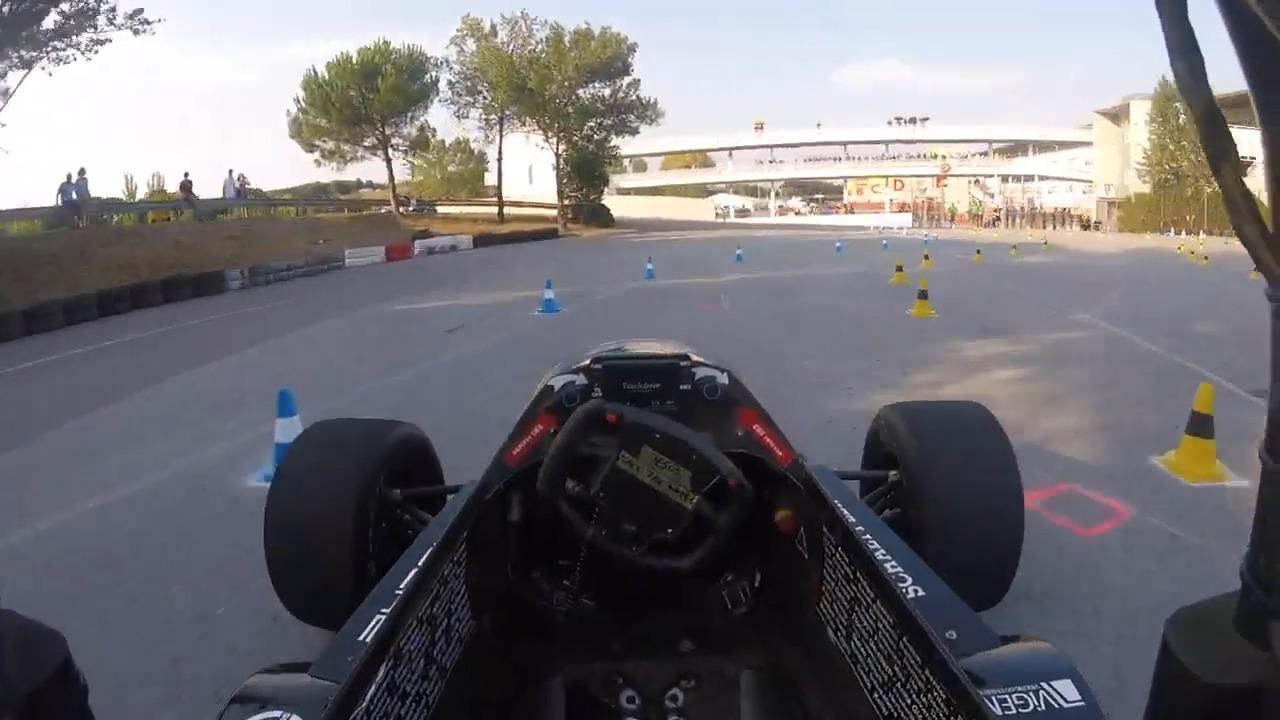blue_cone: (251, 386, 318, 494), (536, 275, 562, 316), (640, 255, 658, 280), (734, 244, 746, 264), (832, 240, 843, 256), (881, 237, 890, 252)
yellow_cone: (1164, 379, 1230, 486), (911, 280, 935, 318), (889, 259, 909, 286), (919, 249, 933, 271), (1249, 263, 1262, 279), (973, 247, 984, 263), (1010, 243, 1019, 259), (1202, 254, 1211, 266)
